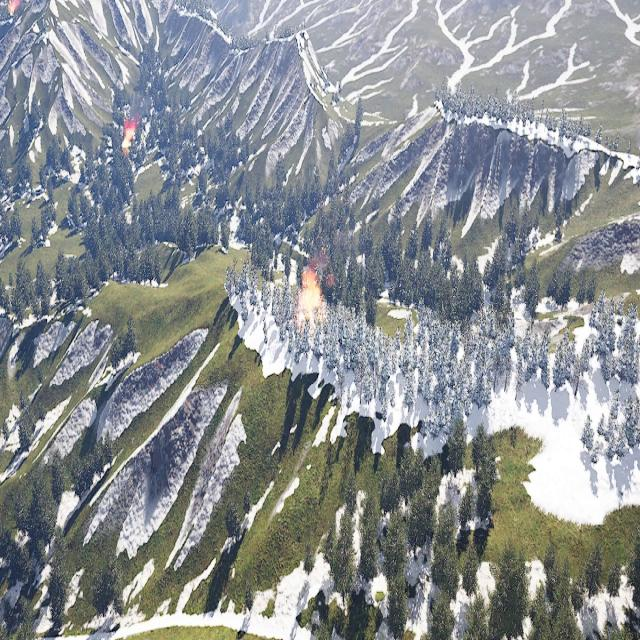fire: (299, 270, 324, 322), (123, 122, 137, 152), (6, 0, 21, 17)
smoke: (124, 91, 147, 124)
